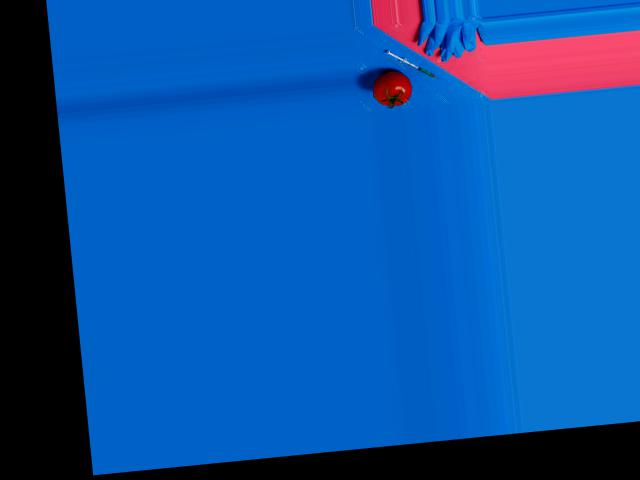tomato: (372, 68, 413, 107)
